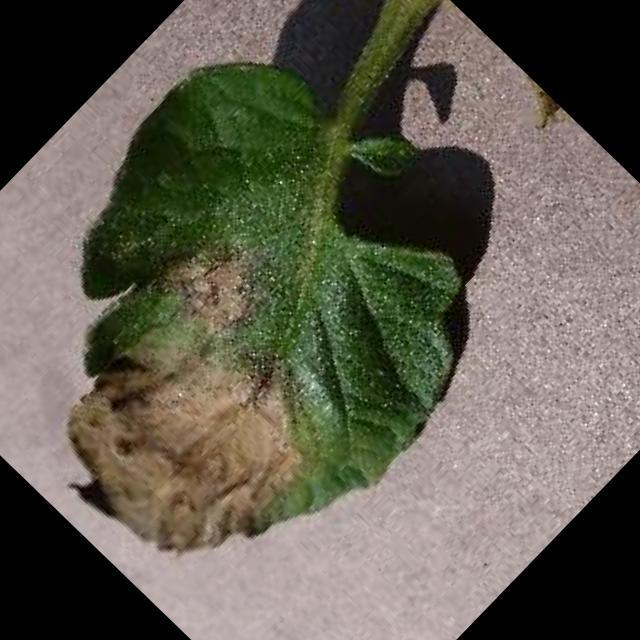Tomato late blight leaf: (0, 18, 540, 638)
